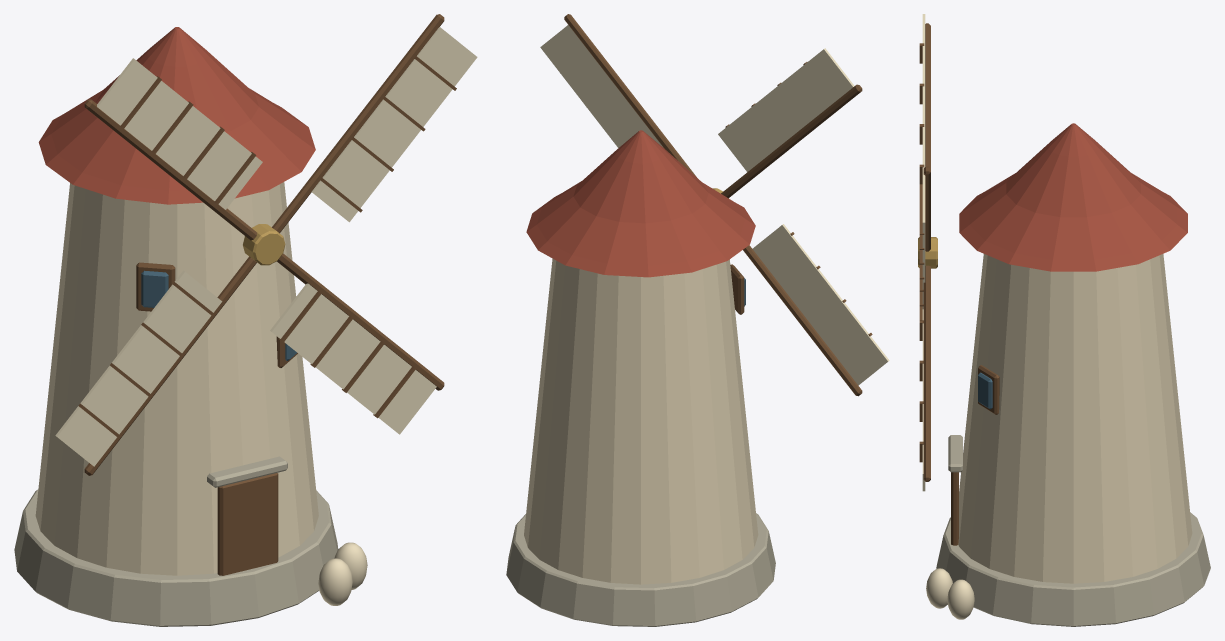
File: windmill.glb
The picture shows the model from 3 angles, left to right: view 1: azimuth 30°, elevation 25°; view 2: azimuth 150°, elevation 25°; view 3: azimuth 270°, elevation 25°; orthographic projection. The views are drawn at different scales.
Visible parts, largest first — view 1: Pigment_e4d7b8, landmark-spinner_Pigment_e6dbbd, Pigment_9f503e, Pigment_b2ac98, landmark-spinner, Pigment_725337, landmark-spinner_Pigment_ba9a58, Pigment_486778; view 2: Pigment_e4d7b8, Pigment_9f503e, landmark-spinner_Pigment_e6dbbd, Pigment_b2ac98, landmark-spinner, Pigment_725337; view 3: Pigment_e4d7b8, Pigment_9f503e, Pigment_b2ac98, landmark-spinner, landmark-spinner_Pigment_e6dbbd, Pigment_725337, Pigment_486778.
Boxes of the visible parts, x1,y1,x2,y2 form: Pigment_e4d7b8: (35,182,367,605); landmark-spinner_Pigment_e6dbbd: (55,27,477,466); Pigment_9f503e: (38,27,315,204); Pigment_b2ac98: (14,456,338,626); landmark-spinner: (78,14,456,475); Pigment_725337: (136,262,297,575); landmark-spinner_Pigment_ba9a58: (243,224,285,265); Pigment_486778: (141,270,296,360); Pigment_e4d7b8: (524,258,758,584); Pigment_9f503e: (526,130,755,277); landmark-spinner_Pigment_e6dbbd: (540,25,889,385); Pigment_b2ac98: (506,513,775,626); landmark-spinner: (564,14,872,396); Pigment_725337: (730,264,744,314); Pigment_e4d7b8: (926,254,1192,619); Pigment_9f503e: (959,123,1187,271); Pigment_b2ac98: (936,435,1210,626); landmark-spinner: (919,23,930,481); landmark-spinner_Pigment_e6dbbd: (922,14,925,491); Pigment_725337: (951,365,999,545); Pigment_486778: (978,372,992,409).
Size of the model in its own units: 6.15 by 8.46 by 4.43.
